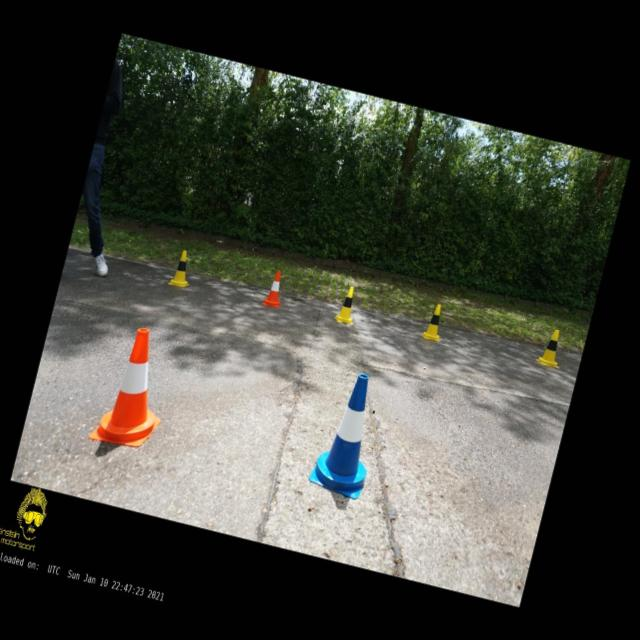blue_cone: (306, 366, 390, 501)
orange_cone: (88, 320, 181, 454), (261, 268, 288, 308)
yellow_cone: (534, 325, 568, 369), (166, 248, 196, 289), (333, 284, 361, 324), (422, 302, 448, 342)
